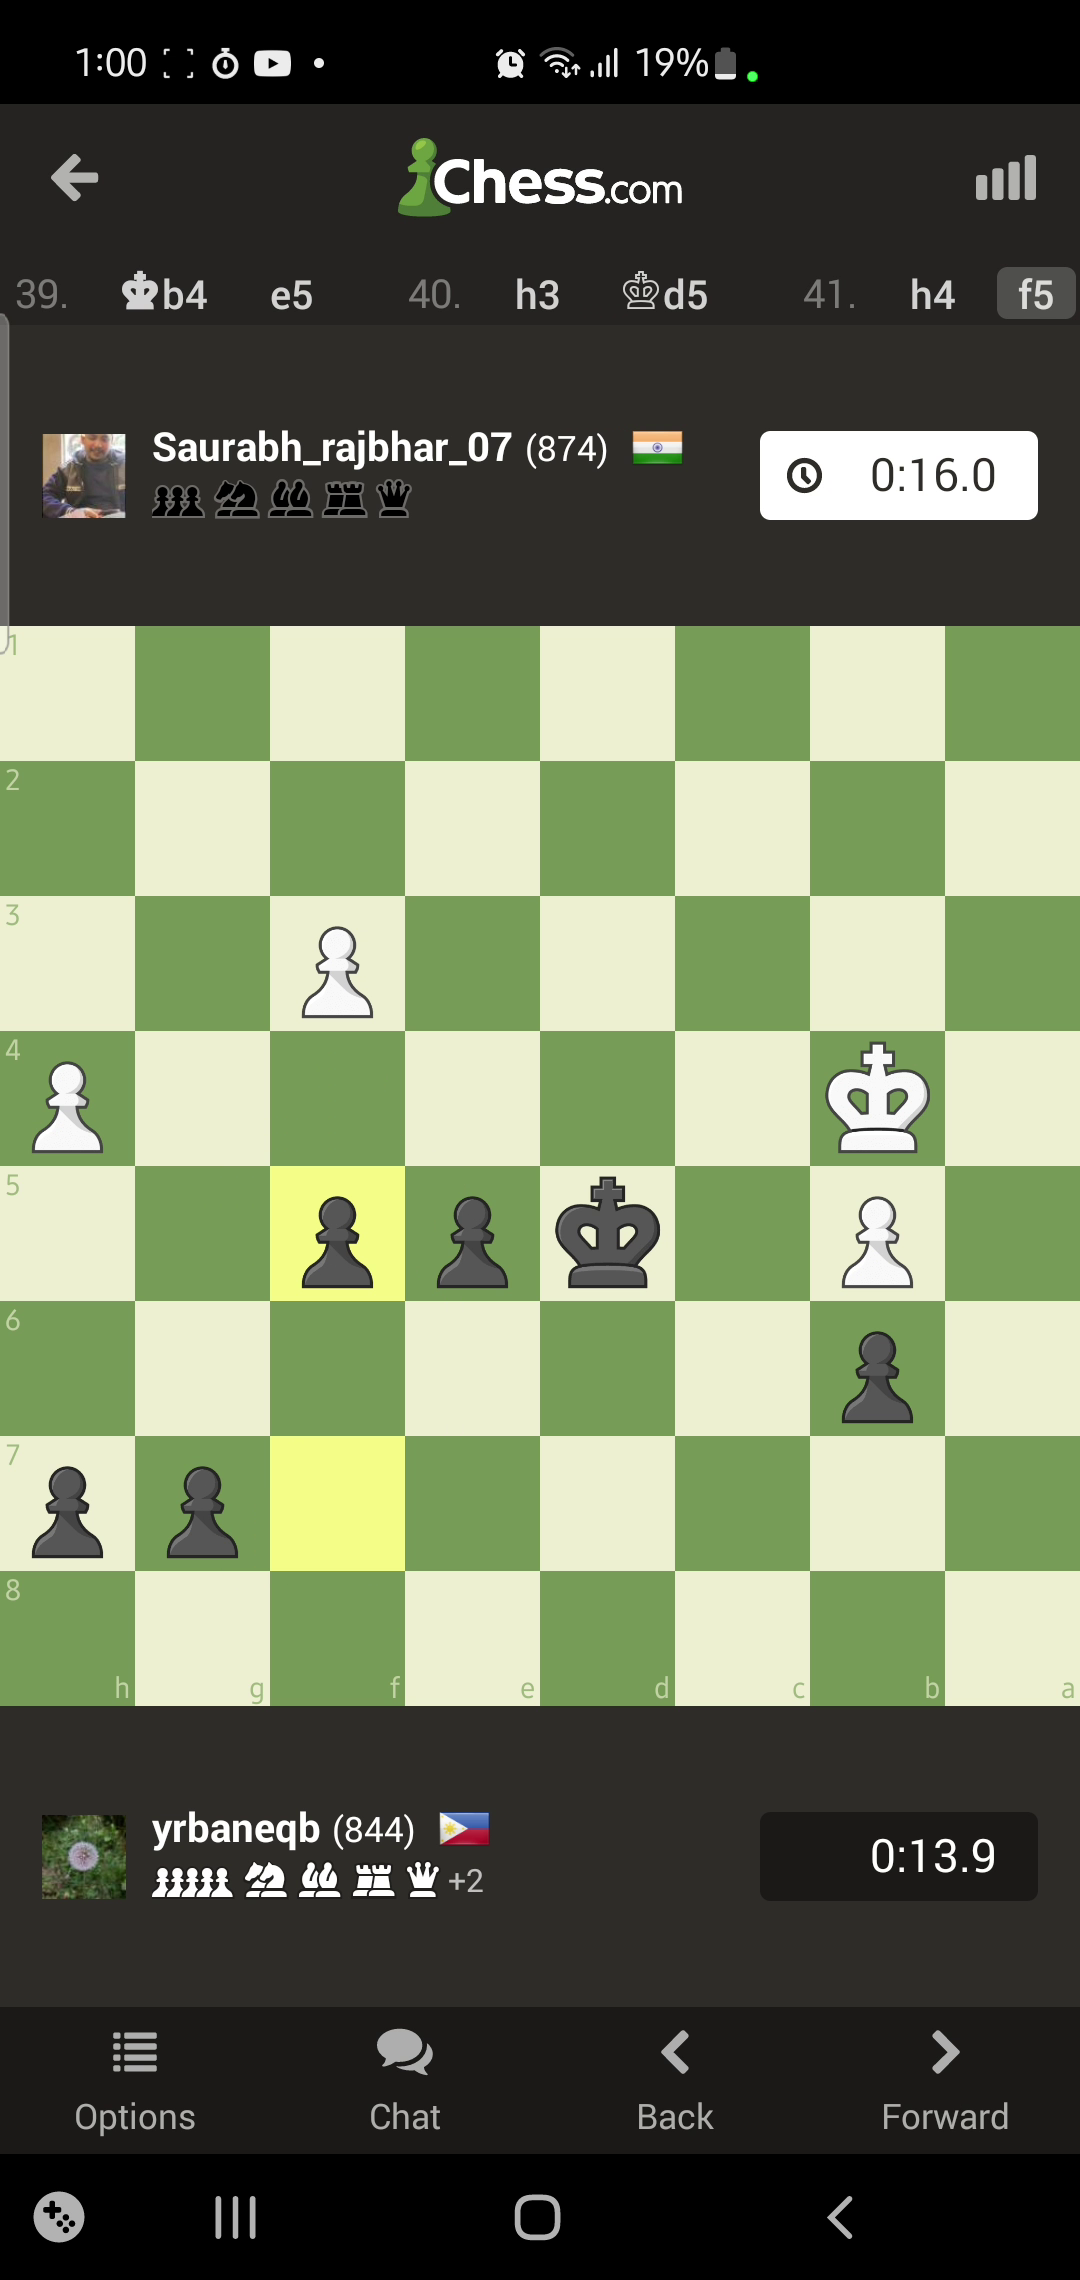king: (555, 1173, 657, 1290), (827, 1043, 927, 1152)
